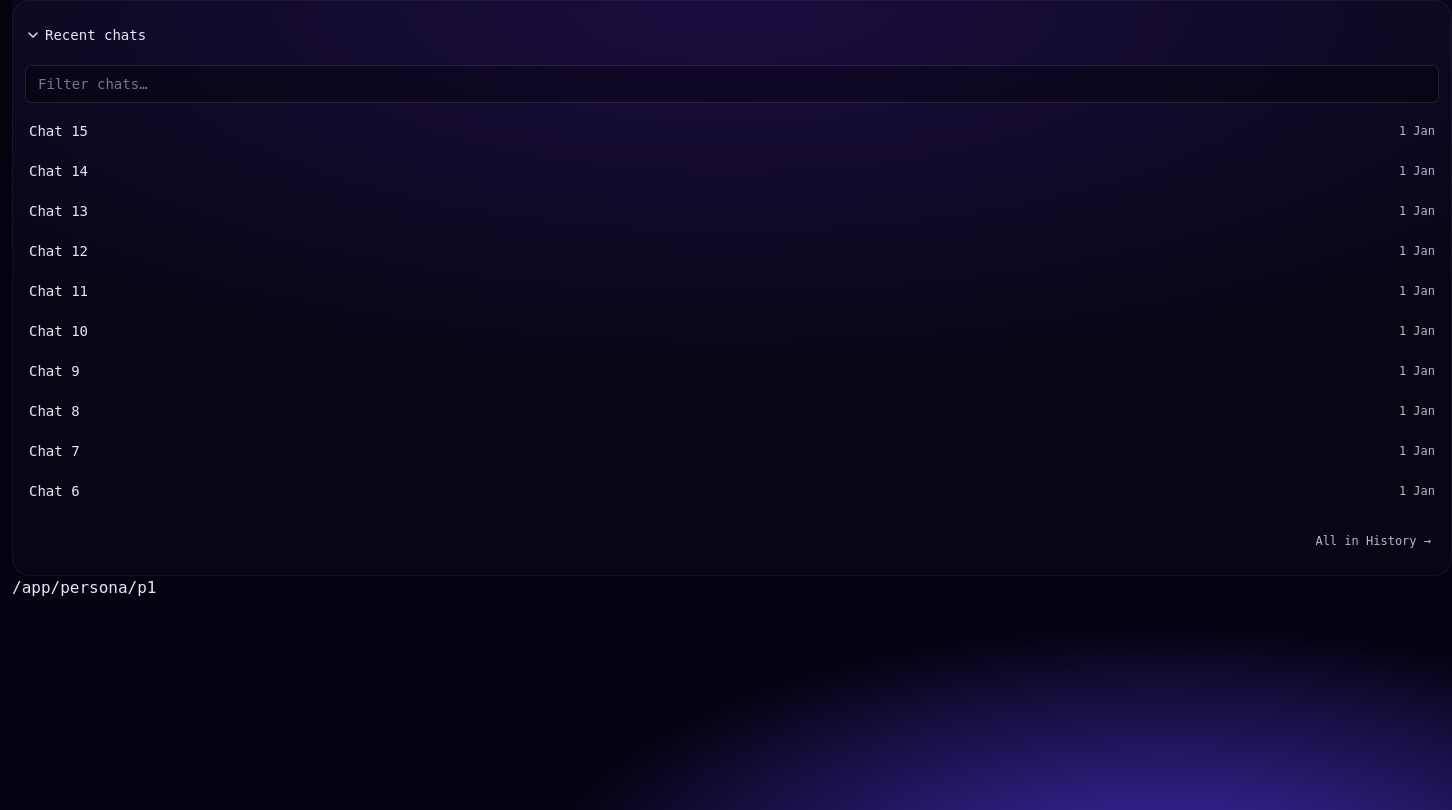
Test case: RecentChatsAccordion › the filter searches all chats, case-insensitively
Type "BACH" into the search field labelled "Filter chats". click: (732, 84)
box: x1=25 y1=65 x2=1439 y2=103
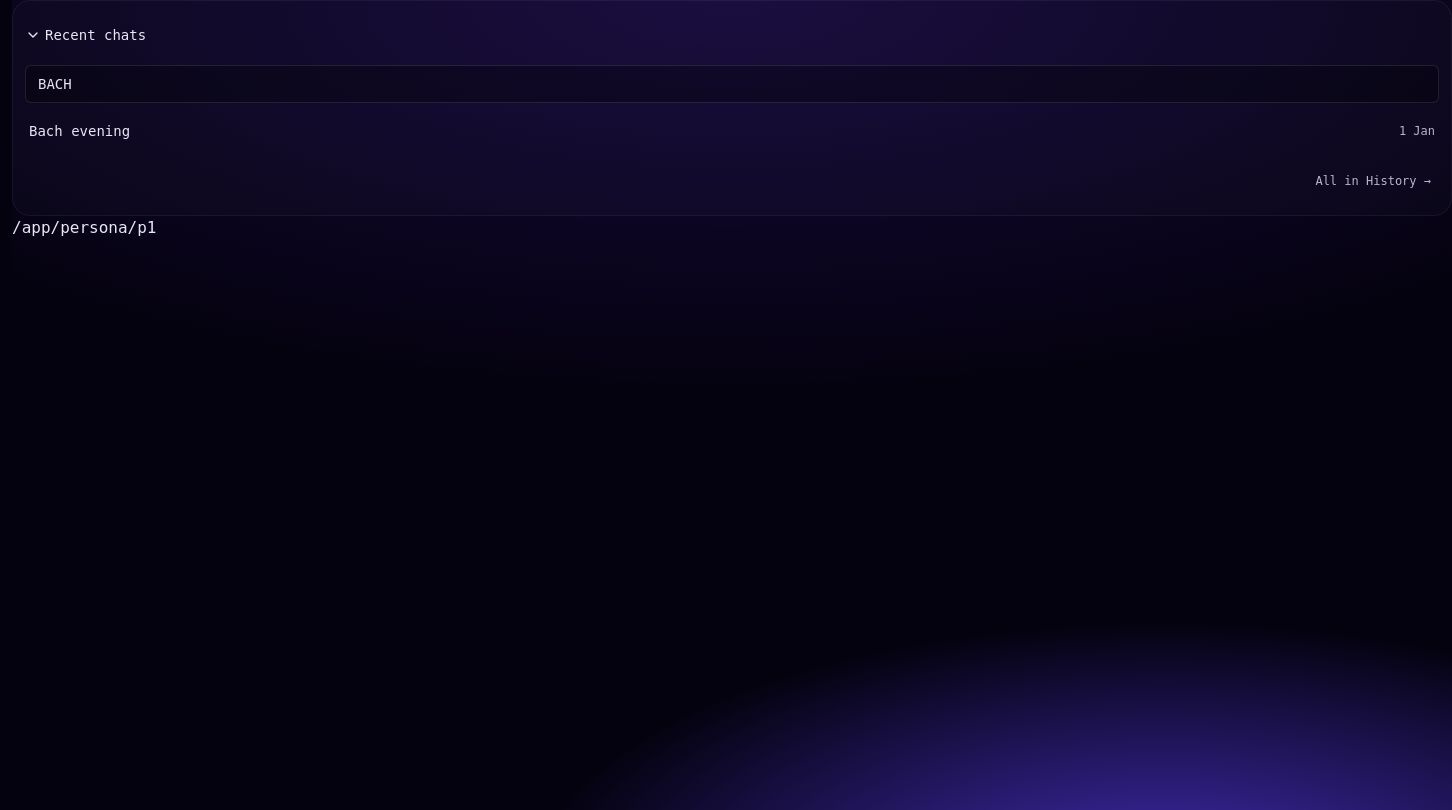
expect the link "Bach evening 1 Jan" is shown: met, box x1=29 y1=123 x2=1435 y2=139
